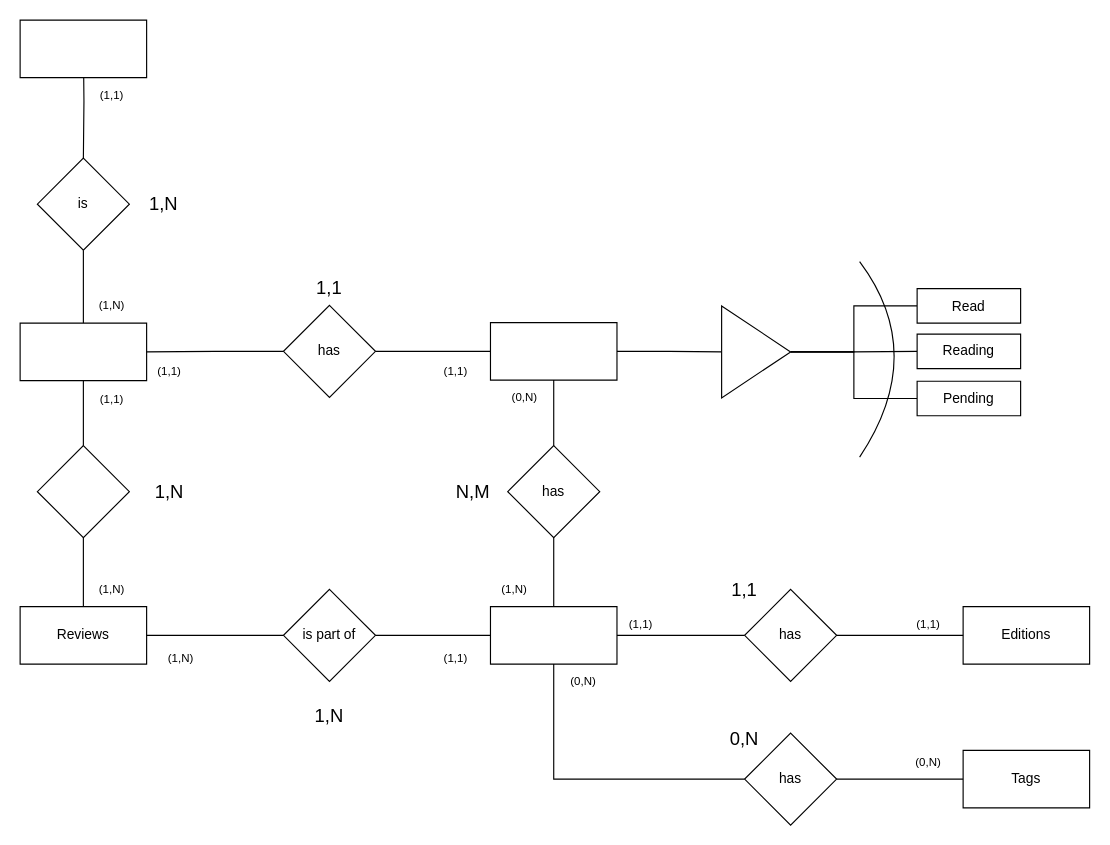
Image size: 1110x845. Some labels were removed from this diagram. Each missing label, with the centre of its shape:
"Books" belongs at (x=553, y=634).
"BookShelves" belongs at (x=553, y=350).
"Roles" belongs at (x=83, y=48).
"submits" belongs at (x=82, y=491).
"Users" belongs at (x=83, y=351).
